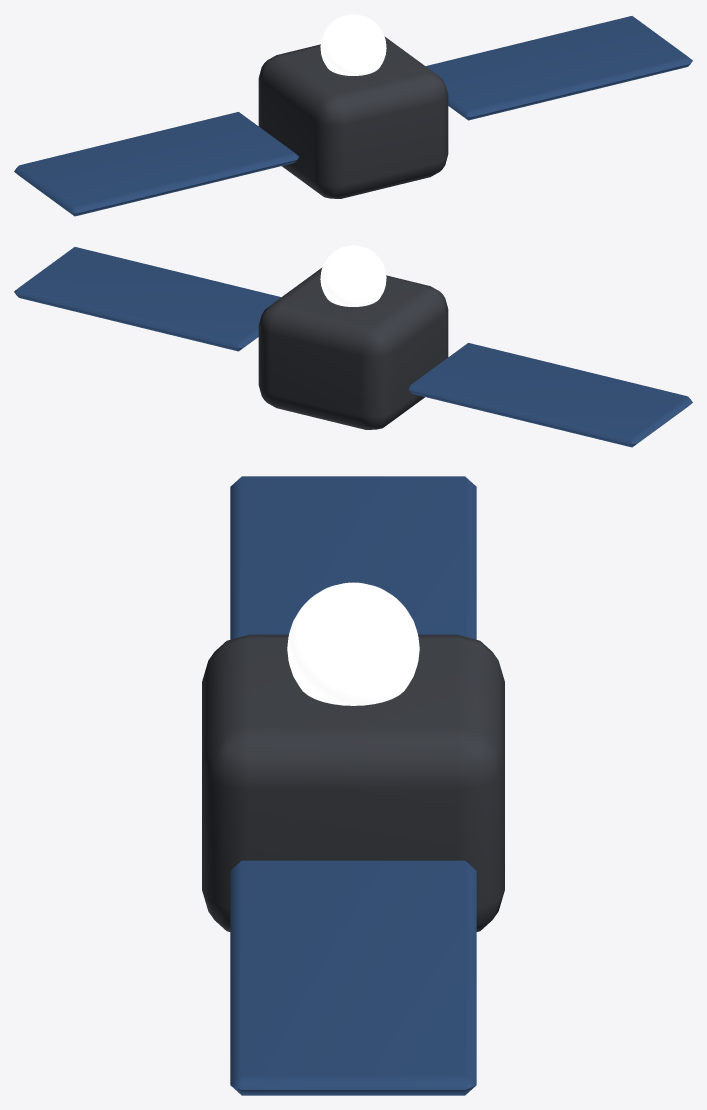
The model's file is drone.glb.
3 renders of one model, top to bottom at view 1: azimuth 30°, elevation 25°; view 2: azimuth 150°, elevation 25°; view 3: azimuth 270°, elevation 25°, orthographic. The views are drawn at different scales.
Visible parts, largest first — view 1: Body.001, Panel, Panel.001, Beacon; view 2: Body.001, Panel, Panel.001, Beacon; view 3: Body.001, Panel.001, Panel, Beacon.
Part boxes in pixels (bbox=[...]): Body.001: bbox=[258, 36, 448, 198]; Panel: bbox=[14, 112, 299, 216]; Panel.001: bbox=[426, 16, 692, 120]; Beacon: bbox=[320, 14, 386, 75]; Body.001: bbox=[258, 267, 448, 429]; Panel: bbox=[407, 343, 692, 447]; Panel.001: bbox=[14, 247, 280, 351]; Beacon: bbox=[320, 245, 386, 306]; Body.001: bbox=[202, 634, 504, 931]; Panel.001: bbox=[230, 860, 476, 1095]; Panel: bbox=[230, 476, 476, 639]; Beacon: bbox=[287, 582, 419, 705].
Size of the model in its own units: 0.76 by 0.175 by 0.16.
